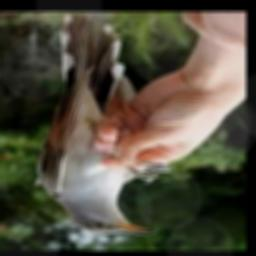Cuckoo: (36, 14, 166, 235)
